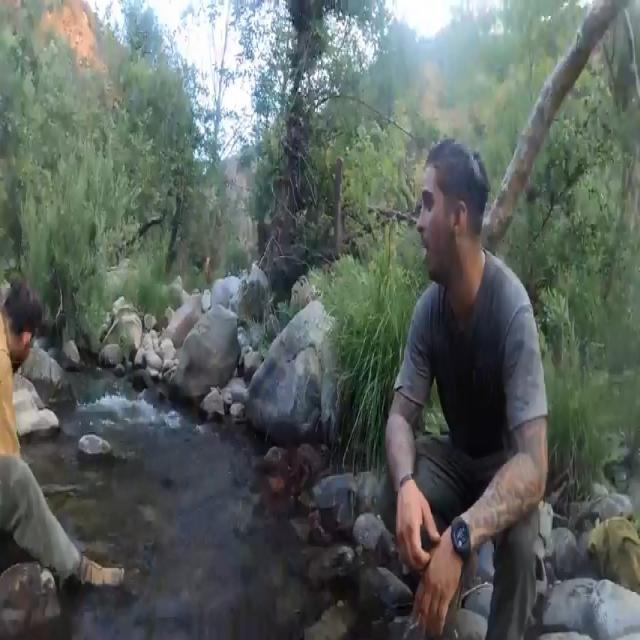Fire: (28, 0, 110, 83)
